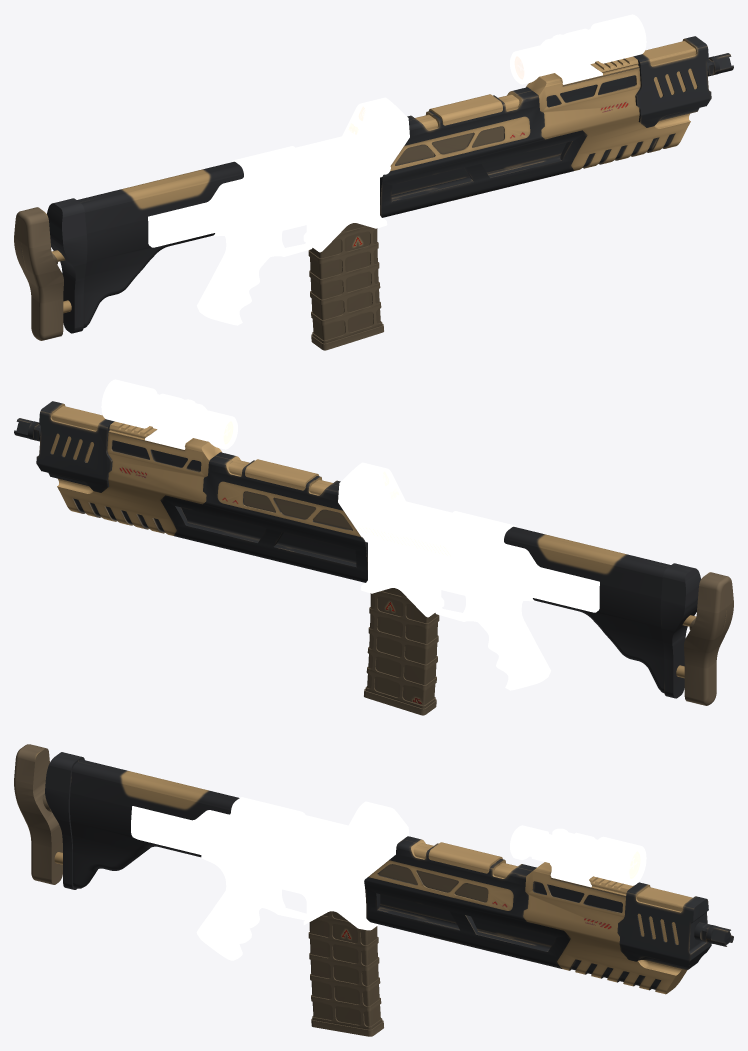
Rendered from Mid_Liner.glb.
The picture shows the model from 3 angles, top to bottom: view 1: azimuth 30°, elevation 25°; view 2: azimuth 150°, elevation 25°; view 3: azimuth 330°, elevation 25°; orthographic projection.
Parts seen in each view (by area): view 1: rail3_low_RAIL_0, body1_low_BODY_0, stock1_low_STOCK_0, clip1_low_CLIP_0, scope1_low_SCOPE_0; view 2: rail3_low_RAIL_0, body1_low_BODY_0, stock1_low_STOCK_0, clip1_low_CLIP_0, scope1_low_SCOPE_0; view 3: rail3_low_RAIL_0, body1_low_BODY_0, stock1_low_STOCK_0, clip1_low_CLIP_0, scope1_low_SCOPE_0.
Boxes of the visible parts, x1,y1,x2,y2 form: rail3_low_RAIL_0: [380, 36, 733, 217]; body1_low_BODY_0: [148, 97, 409, 325]; stock1_low_STOCK_0: [14, 161, 243, 340]; clip1_low_CLIP_0: [308, 223, 383, 350]; scope1_low_SCOPE_0: [510, 14, 646, 84]; rail3_low_RAIL_0: [14, 401, 367, 582]; body1_low_BODY_0: [338, 462, 599, 690]; stock1_low_STOCK_0: [504, 526, 733, 705]; clip1_low_CLIP_0: [364, 588, 439, 715]; scope1_low_SCOPE_0: [101, 379, 237, 449]; rail3_low_RAIL_0: [364, 836, 733, 994]; body1_low_BODY_0: [131, 797, 409, 960]; stock1_low_STOCK_0: [14, 744, 239, 889]; clip1_low_CLIP_0: [308, 911, 383, 1036]; scope1_low_SCOPE_0: [510, 825, 646, 887].
Size of the model in its own units: 4.28 by 1.46 by 0.318.
5 materials, 5 textured.
